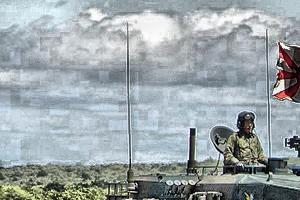tanks: (108, 140, 300, 200)
